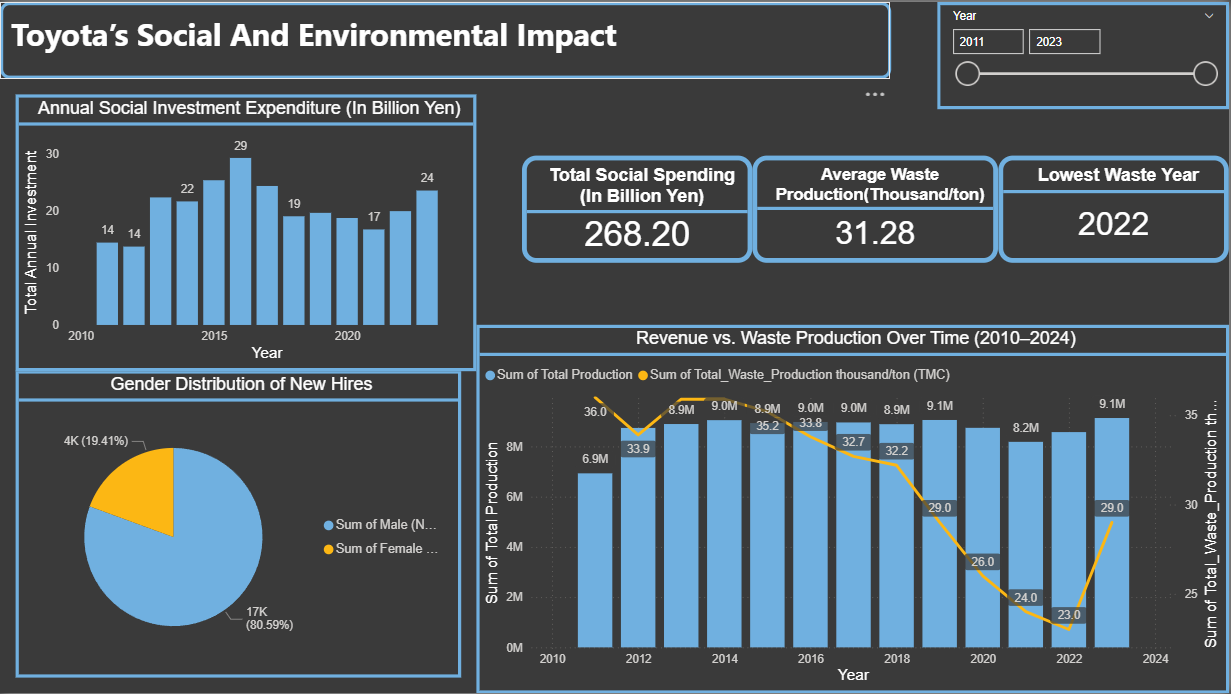

The dashboard page shown, as its layout file describes it:
{"tool":"powerbi","page":{"name":"Social and Environmental Factor","canvas":[1280,720],"ordinal":3},"visuals":[{"type":"pieChart","title":"Gender Distribution of New Hires","fields":{"Y":["Sum(Employee, Social & Enviromental.Male (New Hired) TMC)","Sum(Employee, Social & Enviromental.Female (New Hired) TMC)"]},"box":[16,384,464,320],"z":0},{"type":"card","title":"Total Social Spending (In Billion Yen)","fields":{"Values":["Sum(Employee, Social & Enviromental.Annual_Social_Contribution_Spending (In Billion Yen))"]},"box":[544,160,240,112],"z":1000},{"type":"clusteredColumnChart","title":"Annual Social Investment Expenditure          (In Billion Yen)","fields":{"Category":["Annual Report.Year"],"Y":["Sum(Employee, Social & Enviromental.Annual_Social_Contribution_Spending (In Billion Yen))"]},"box":[16,96,480,288],"z":2000},{"type":"slicer","fields":{"Values":["Employee, Social & Enviromental.Year"]},"box":[976,0,304,112],"z":3000},{"type":"textbox","box":[0,0,928,80],"z":4000},{"type":"lineStackedColumnComboChart","title":"Revenue vs. Waste Production Over Time (2010–2024)","fields":{"Y2":["Sum(Employee, Social & Enviromental.Total_Waste_Production thousand/ton (TMC))"],"Category":["Employee, Social & Enviromental.Year"],"Y":["Sum(Sales & Production.Total Production)"]},"box":[496,336,784,384],"z":5000},{"type":"card","title":"Average Waste Production(Thousand/ton)","fields":{"Values":["Avg(Employee, Social & Enviromental.Total_Waste_Production thousand/ton (TMC))"]},"box":[784,160,256,112],"z":6000},{"type":"card","title":"Lowest Waste Year","fields":{"Values":["Employee, Social & Enviromental.Lowest Waste Year"]},"box":[1040,160,240,112],"z":7000}]}

Visuals, with their boxes in screenshot pixels (x1, y1, x2, y2), scaled from the page's 1280x720 canvas onto the 1231x694 screenshot:
"Gender Distribution of New Hires" pieChart: detection(15, 370, 462, 679)
"Total Social Spending (In Billion Yen)" card: detection(523, 154, 754, 262)
"Annual Social Investment Expenditure          (In Billion Yen)" clusteredColumnChart: detection(15, 93, 477, 370)
slicer - Employee, Social & Enviromental.Year: detection(939, 0, 1230, 108)
textbox: detection(0, 0, 892, 77)
"Revenue vs. Waste Production Over Time (2010–2024)" lineStackedColumnComboChart: detection(477, 324, 1230, 693)
"Average Waste Production(Thousand/ton)" card: detection(754, 154, 1000, 262)
"Lowest Waste Year" card: detection(1000, 154, 1230, 262)
